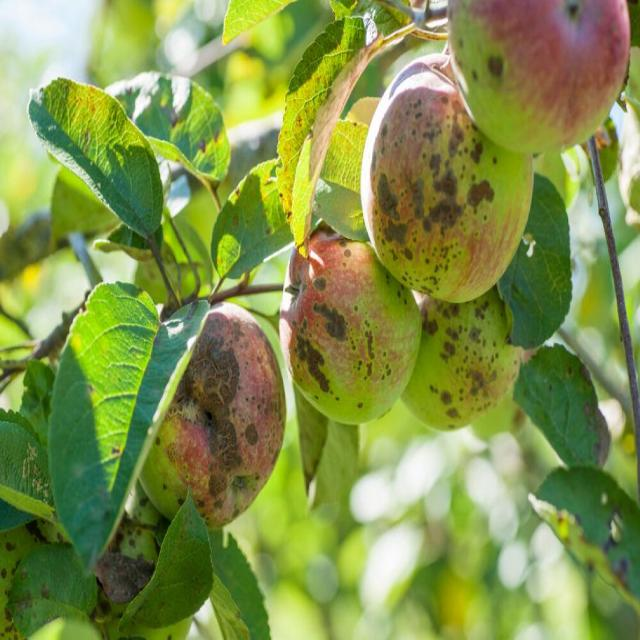Rotten Apple: (366, 7, 614, 330), (120, 274, 282, 577), (278, 235, 409, 494)
